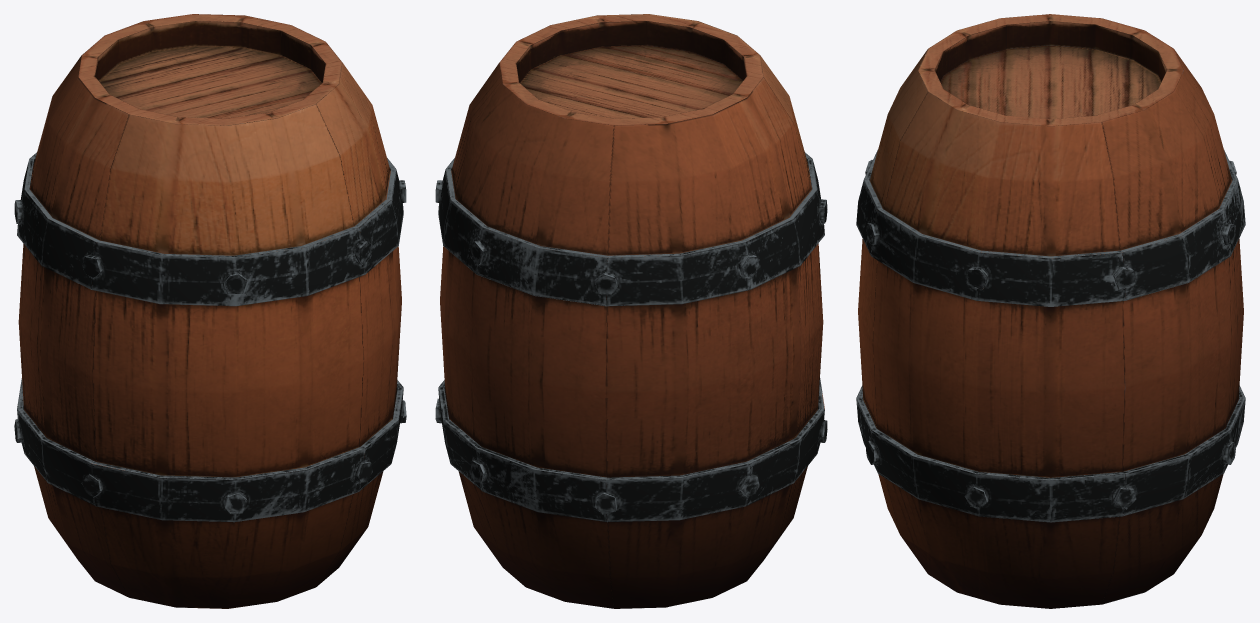
Rendered from Barrel.fbx.
3 views of the same model, side by side, from view 1: azimuth 30°, elevation 25°; view 2: azimuth 150°, elevation 25°; view 3: azimuth 270°, elevation 25° (orthographic).
Parts seen in each view (by area): view 1: Barrel; view 2: Barrel; view 3: Barrel.
Part boxes in pixels (x1,y1,x2,y2): Barrel: (14,14,406,608); Barrel: (435,14,827,608); Barrel: (856,14,1245,608).
Bounding box in the file's own units: 73.16 × 100 × 73.16.
1 material, 1 textured.
